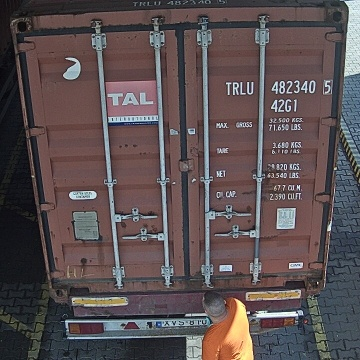serial_id: (226, 79, 332, 94)
